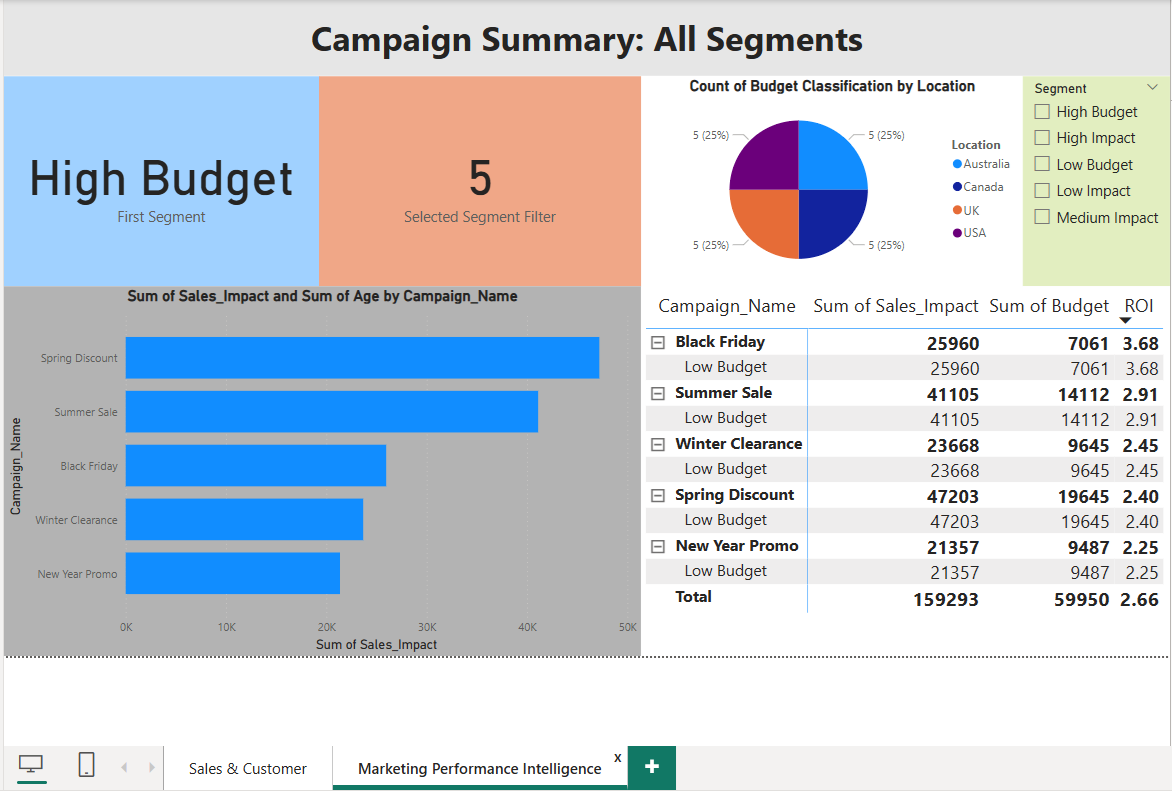

The page's visual inventory and layout, read from the dashboard file:
{"tool":"powerbi","page":{"name":"Marketing Performance Intelligence","canvas":[1280,720],"ordinal":1},"visuals":[{"type":"card","fields":{"Values":["Min(Campaign Segmentation.Segment)"]},"box":[0,83.6,346.1,230.2],"z":0},{"type":"card","fields":{"Values":["Marketing_Campaigns.Selected Segment Filter"]},"box":[346.1,83.6,353.4,230.2],"z":1000},{"type":"clusteredBarChart","fields":{"Category":["Marketing_Campaigns.Campaign_Name"],"Y":["Sum(Marketing_Campaigns.Sales_Impact)"]},"box":[0,313.8,699.5,406.2],"z":2000},{"type":"pieChart","fields":{"Y":["CountNonNull(Marketing_Campaigns.Budget Classification)"],"Category":["Customer_Data.Location"]},"box":[699.5,83.6,419.4,230.2],"z":3000},{"type":"slicer","fields":{"Values":["Campaign Segmentation.Segment"]},"box":[1119,83.6,161.3,230.2],"z":4000},{"type":"card","fields":{"Values":["Campaign Segmentation.Selected Segment Title"]},"box":[0,0,1280.3,83.6],"z":5000},{"type":"pivotTable","fields":{"Rows":["Marketing_Campaigns.Campaign_Name","Marketing_Campaigns.Budget Classification"],"Values":["Sum(Marketing_Campaigns.Sales_Impact)","Sum(Marketing_Campaigns.Budget)","Campaign Segmentation.ROI"]},"box":[699.5,313.8,580.8,406.2],"z":6000}]}

Visuals, with their boxes on the page's 1280x720 design canvas (x1, y1, x2, y2). These are canvas units, not pixel positions in the 1172x791 screenshot, which may show the page scaled, cropped or inside an application window:
card - Min(Campaign Segmentation.Segment): {"x1": 0, "y1": 84, "x2": 346, "y2": 314}
card - Marketing_Campaigns.Selected Segment Filter: {"x1": 346, "y1": 84, "x2": 700, "y2": 314}
clusteredBarChart - Marketing_Campaigns.Campaign_Name x Sum(Marketing_Campaigns.Sales_Impact): {"x1": 0, "y1": 314, "x2": 700, "y2": 720}
pieChart - CountNonNull(Marketing_Campaigns.Budget Classification) x Customer_Data.Location: {"x1": 700, "y1": 84, "x2": 1119, "y2": 314}
slicer - Campaign Segmentation.Segment: {"x1": 1119, "y1": 84, "x2": 1280, "y2": 314}
card - Campaign Segmentation.Selected Segment Title: {"x1": 0, "y1": 0, "x2": 1280, "y2": 84}
pivotTable - Marketing_Campaigns.Campaign_Name x Marketing_Campaigns.Budget Classification: {"x1": 700, "y1": 314, "x2": 1280, "y2": 720}
